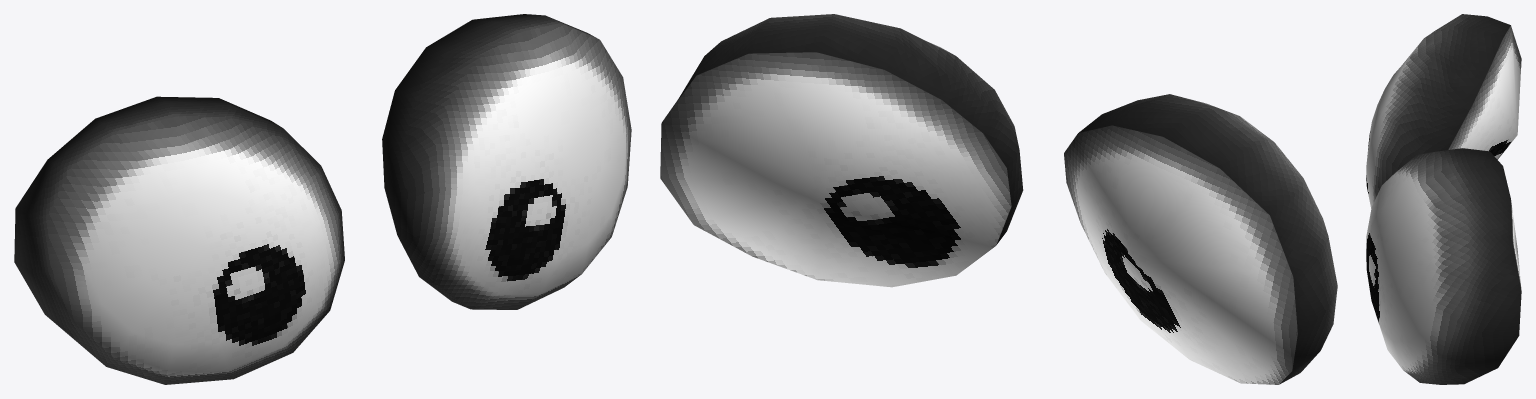
The model's file is m_e_yukson.FBX.
The picture shows the model from 3 angles, left to right: view 1: azimuth 30°, elevation 25°; view 2: azimuth 150°, elevation 25°; view 3: azimuth 270°, elevation 25°; orthographic projection. The views are drawn at different scales.
Parts seen in each view (by area): view 1: Object01; view 2: Object01; view 3: Object01.
Boxes of the visible parts, x1,y1,x2,y2 form: Object01: (14, 14, 631, 384); Object01: (660, 14, 1337, 384); Object01: (1366, 14, 1521, 384).
Bounding box in the file's own units: 5.48 × 2.23 × 1.51.
